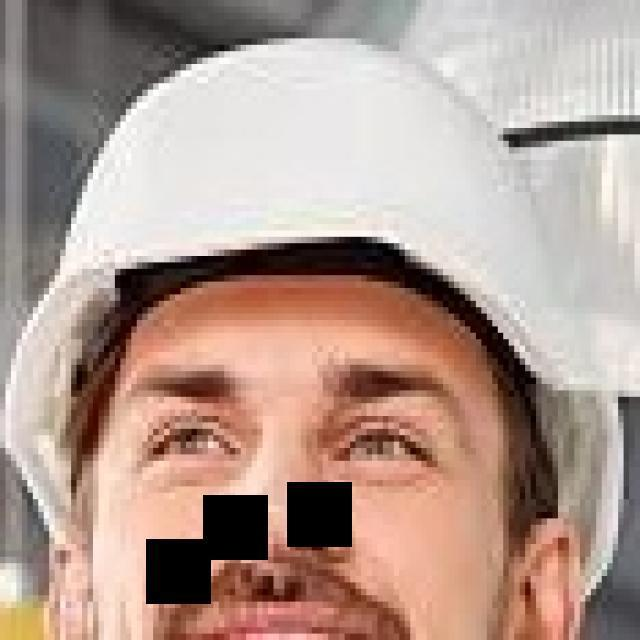white helmet: (10, 18, 630, 580)
